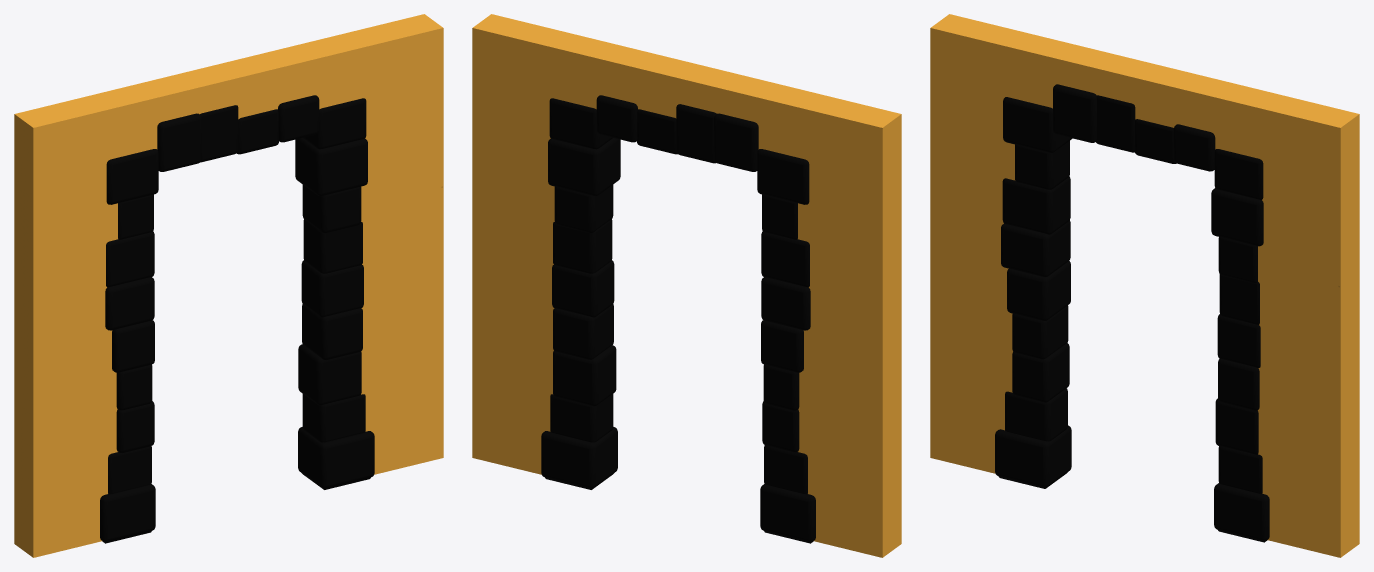
Rendered from Wall Door.fbx.
3 renders of one model, left to right at view 1: azimuth 30°, elevation 25°; view 2: azimuth 150°, elevation 25°; view 3: azimuth 330°, elevation 25°, orthographic.
Parts seen in each view (by area): view 1: Wall Door; view 2: Wall Door; view 3: Wall Door.
Boxes of the visible parts, box(x1,y1,x2,y2) form: Wall Door: box(14, 14, 443, 557); Wall Door: box(472, 14, 901, 557); Wall Door: box(930, 14, 1359, 557).
Size of the model in its own units: 249 by 250 by 27.67.
Materials: 1 (1 with a texture image).
